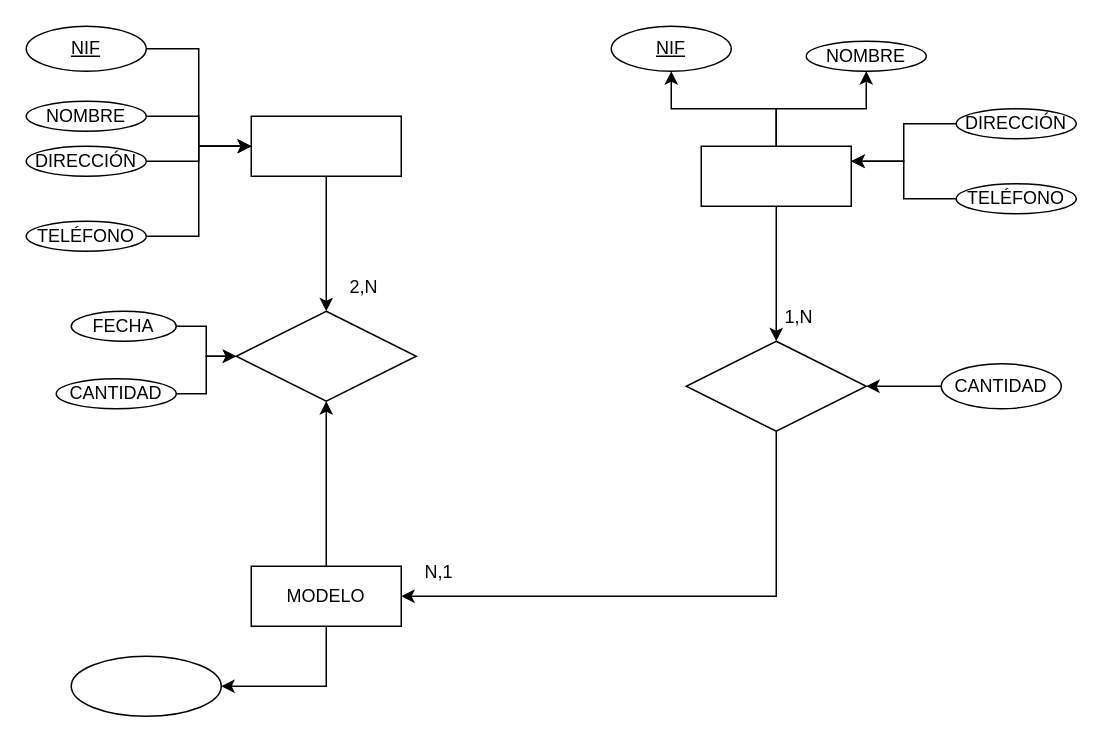
Some shapes in this 1103 by 743 pixel diagram are drawn without their labels. The shapes that lost their labels are listed below. From the top down, each one's centre as x and y in pixels, then its label:
At point 325,145: "MONTADOR".
At point 775,175: "CLIENTES".
At point 325,355: "MONTAN".
At point 775,385: "COMPRAN".
At point 145,685: "CODIGO".
